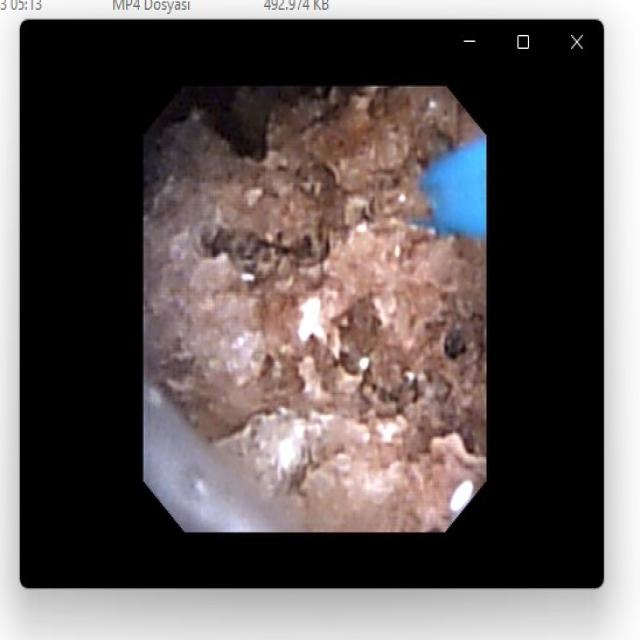fiber: (425, 143, 481, 231)
stone: (147, 88, 480, 524)
